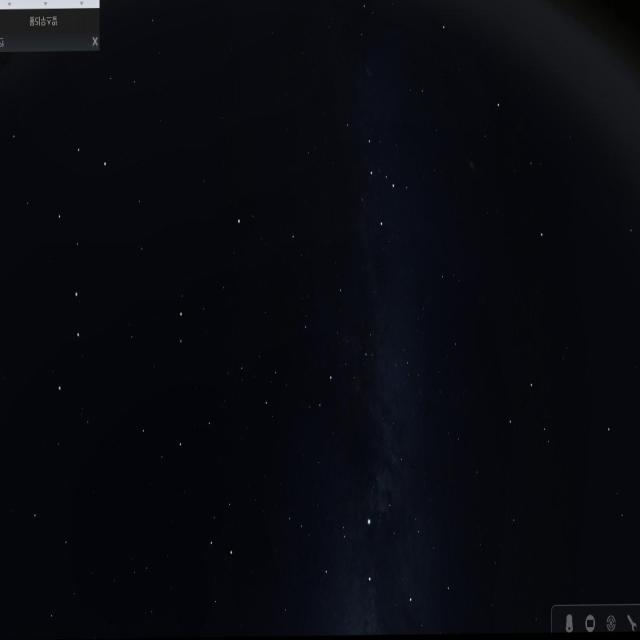cassiopeia: (332, 121, 408, 245)
cygnus: (325, 494, 420, 636)
ursa_major: (43, 137, 119, 398)
